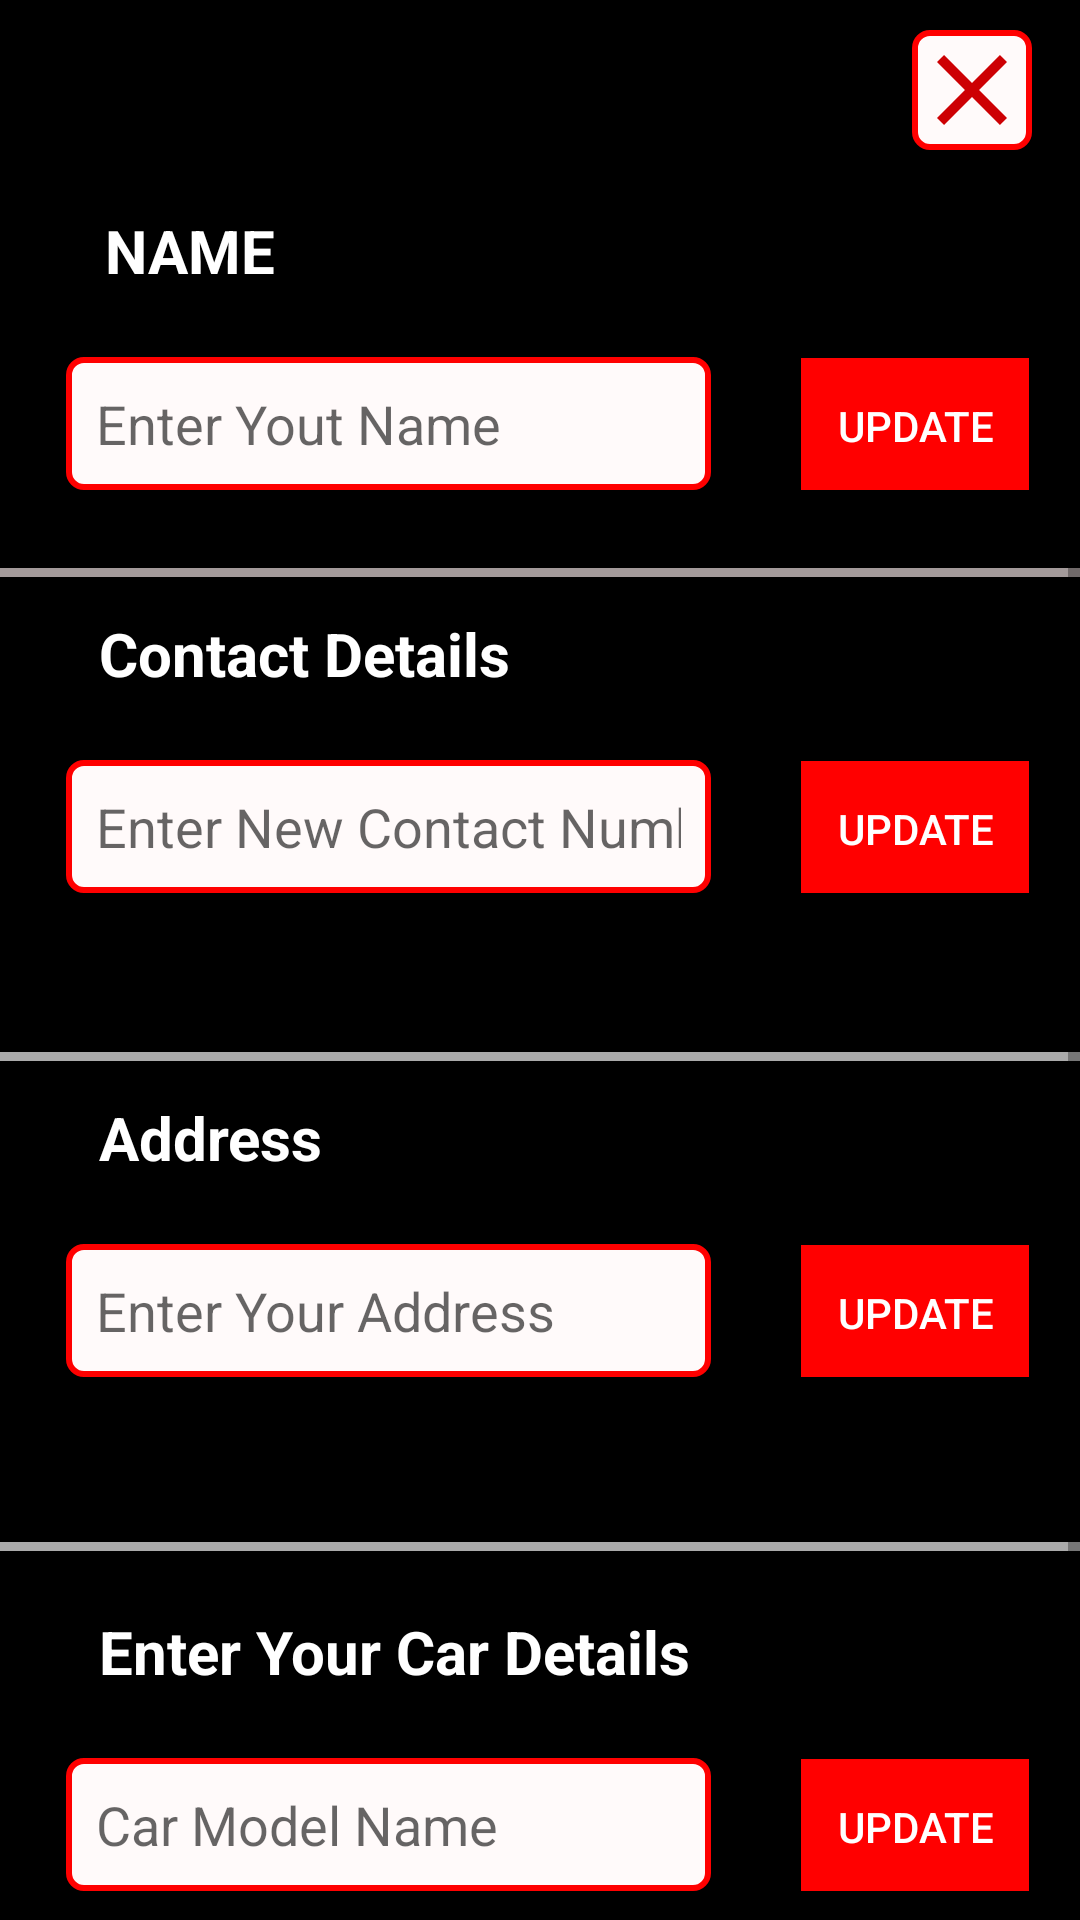

Where to tap for icons on this 1080px x 1920px app screen, as [x,y]:
close: [972,90]
